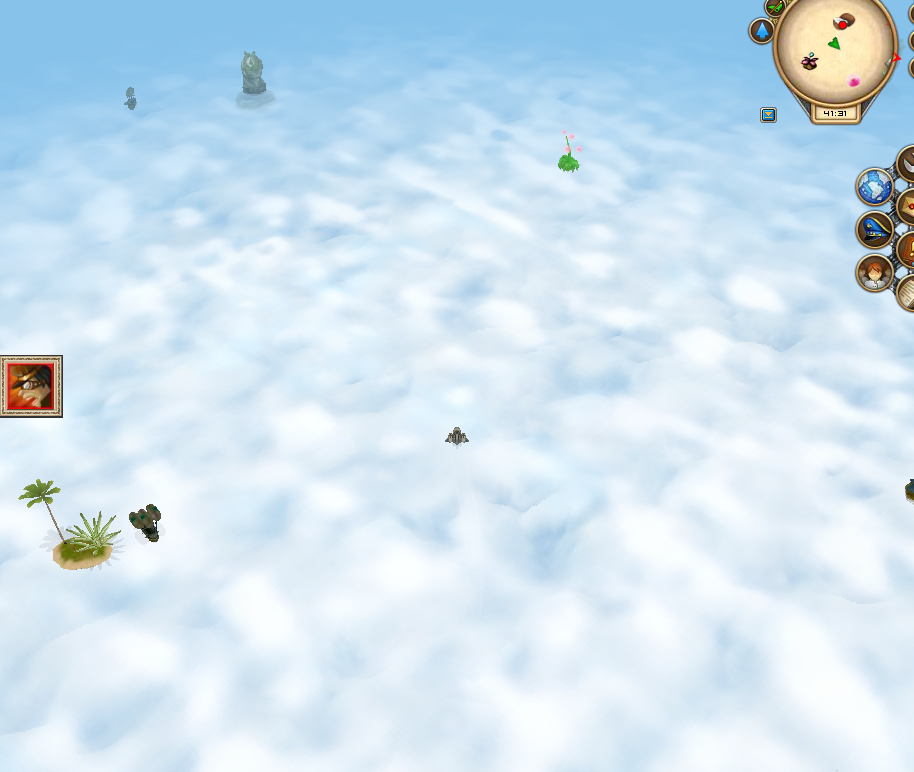dandelion-full: (555, 128, 585, 174)
palm: (8, 476, 124, 575)
